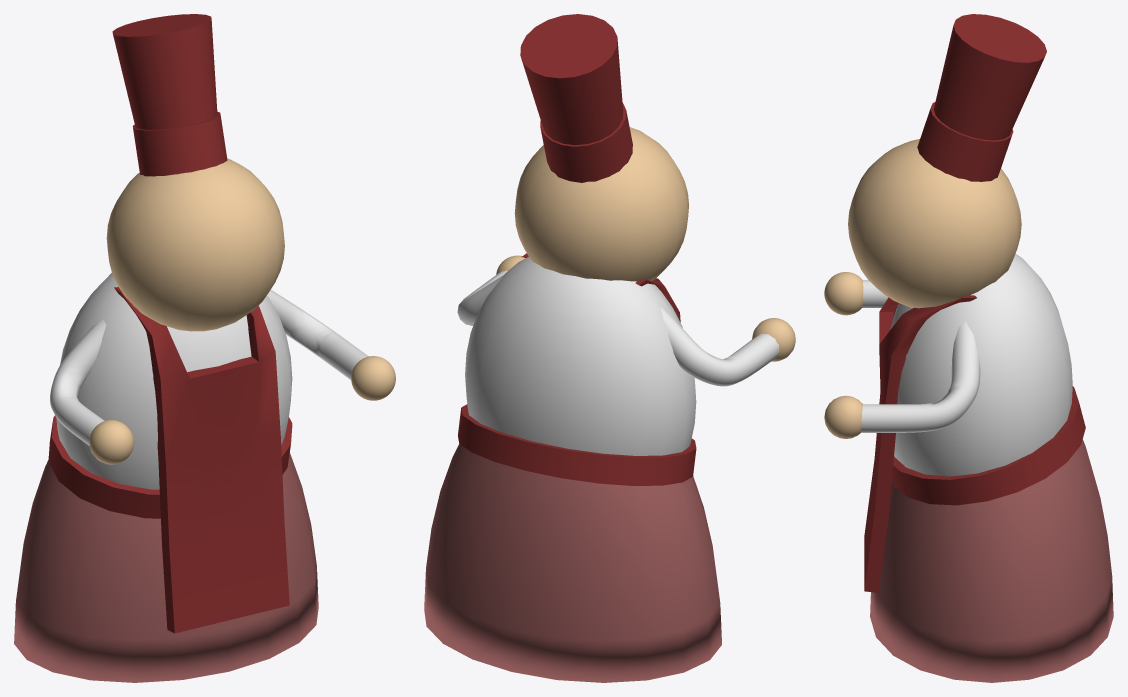
The model's file is redPlayer_3.fbx.
The picture shows the model from 3 angles, left to right: view 1: azimuth 30°, elevation 25°; view 2: azimuth 150°, elevation 25°; view 3: azimuth 270°, elevation 25°; orthographic projection. The views are drawn at different scales.
Parts seen in each view (by area): view 1: skirt, apron, head, chest, pCylinder1, arm (×2), pCylinder2, belt, pSphere1 (×2); view 2: skirt, chest, head, pCylinder1, belt, arm (×2), pCylinder2, pSphere1; view 3: skirt, chest, head, pCylinder1, apron, belt, arm (×2), pCylinder2, pSphere1 (×2).
Boxes of the visible parts, x1=… form: skirt: x1=14, y1=452, x2=318, y2=682; apron: x1=114, y1=287, x2=289, y2=633; head: x1=106, y1=158, x2=284, y2=331; chest: x1=56, y1=273, x2=292, y2=489; pCylinder1: x1=112, y1=14, x2=217, y2=129; arm (×2): x1=50, y1=290, x2=368, y2=445; pCylinder2: x1=132, y1=111, x2=227, y2=176; belt: x1=48, y1=415, x2=292, y2=518; pSphere1 (×2): x1=89, y1=356, x2=395, y2=464; skirt: x1=424, y1=444, x2=721, y2=682; chest: x1=465, y1=256, x2=696, y2=455; head: x1=514, y1=127, x2=688, y2=281; pCylinder1: x1=520, y1=14, x2=623, y2=145; belt: x1=458, y1=404, x2=696, y2=485; arm (×2): x1=457, y1=270, x2=779, y2=386; pCylinder2: x1=540, y1=103, x2=632, y2=182; pSphere1: x1=752, y1=318, x2=795, y2=361; skirt: x1=870, y1=439, x2=1113, y2=682; chest: x1=890, y1=253, x2=1072, y2=476; head: x1=848, y1=139, x2=1021, y2=308; pCylinder1: x1=933, y1=14, x2=1046, y2=140; apron: x1=864, y1=295, x2=976, y2=592; belt: x1=892, y1=386, x2=1085, y2=505; arm (×2): x1=860, y1=280, x2=980, y2=432; pCylinder2: x1=917, y1=102, x2=1013, y2=181; pSphere1 (×2): x1=824, y1=272, x2=863, y2=438.
Bounding box in the file's own units: 23.24 × 45.1 × 20.
